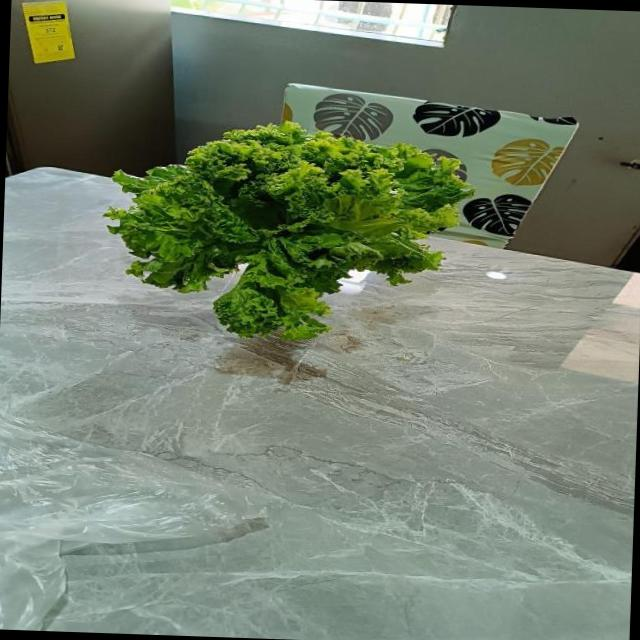Lettuce-Ready-to-Harvest: (106, 122, 472, 339)
